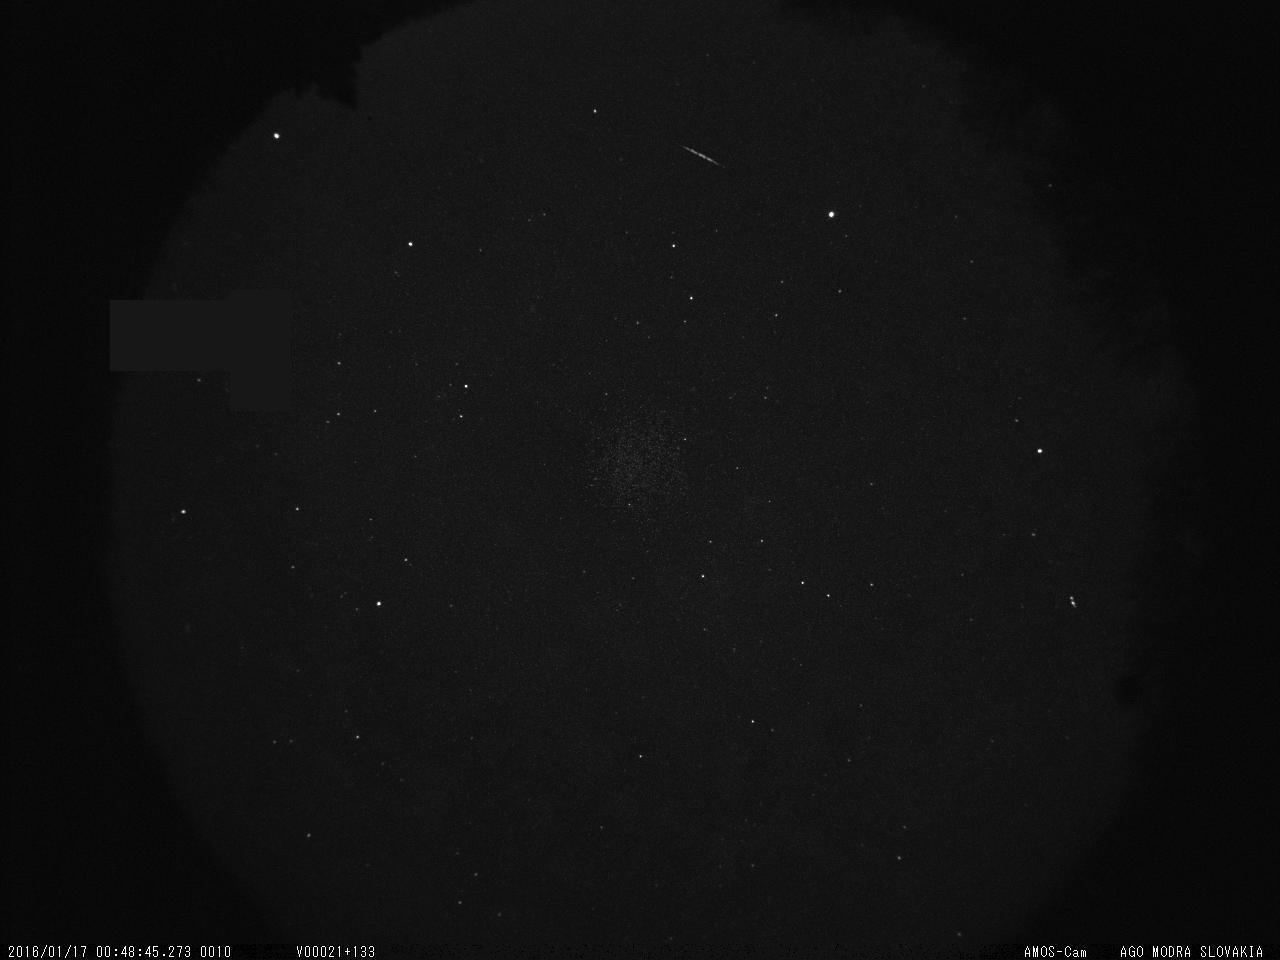meteor: (682, 146, 736, 183)
